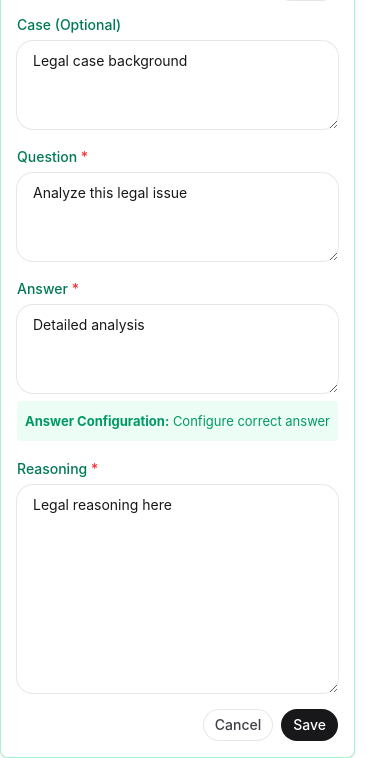
QuestionCard › QA Reasoning type questions › shows collapsed view by default
This screenshot has width=372, height=758.
(page scrolled)
# Save to view mode
Click the button "Save" at (310, 725), box [281,709,338,741]
(page scrolled)
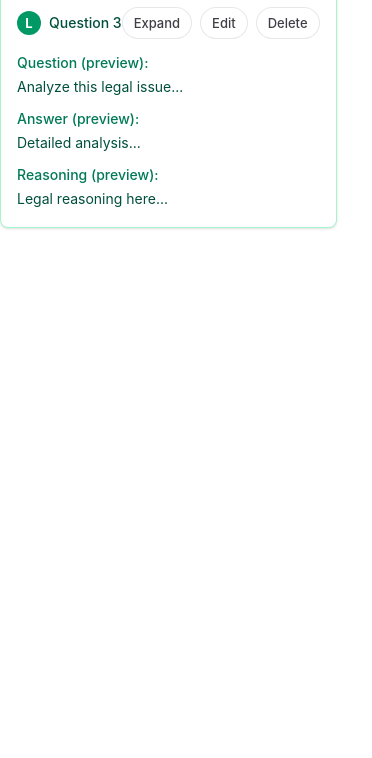
Check: the text "Question (preview):" is shown, box [17,54,148,71]
Check: the text "Answer (preview):" is shown, box [17,110,139,127]
Check: the text "Reasoning (preview):" is shown, box [17,166,158,183]
